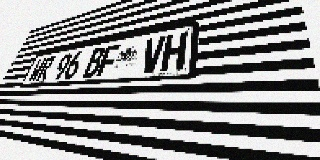6: (62, 51, 85, 79)
9: (52, 53, 73, 80)
B: (82, 47, 106, 78)
F: (96, 44, 121, 77)
H: (160, 32, 188, 72)
R: (35, 56, 56, 82)
V: (139, 36, 166, 73)
W: (27, 58, 47, 82)
